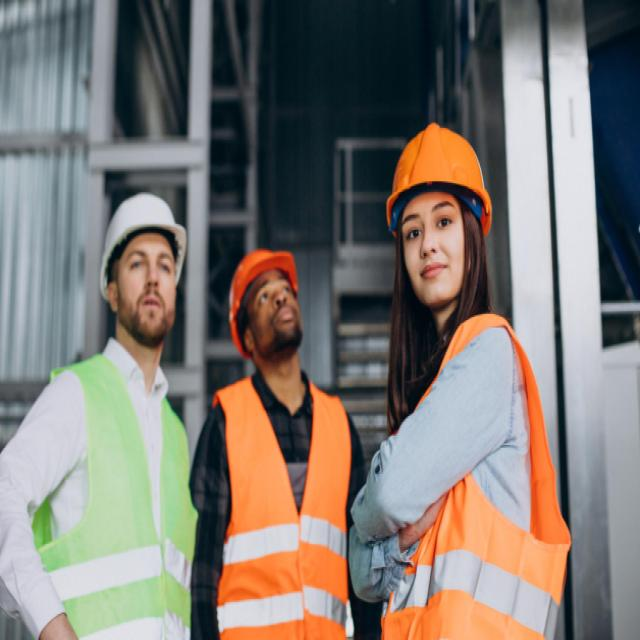secure person: (355, 123, 571, 640), (0, 195, 196, 640), (194, 250, 364, 640)
